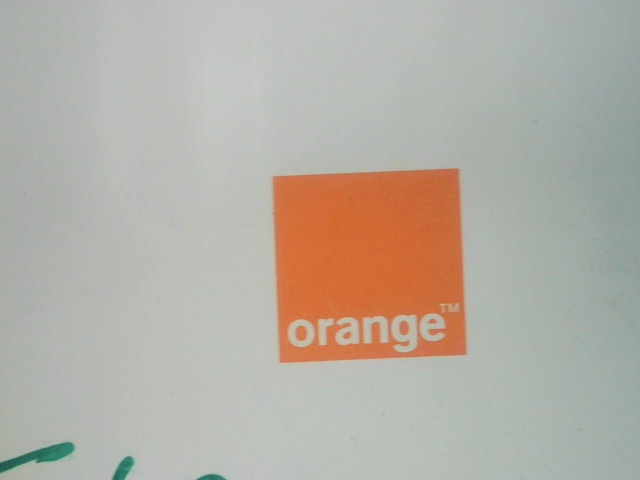AR_Orange: (263, 164, 473, 368)
